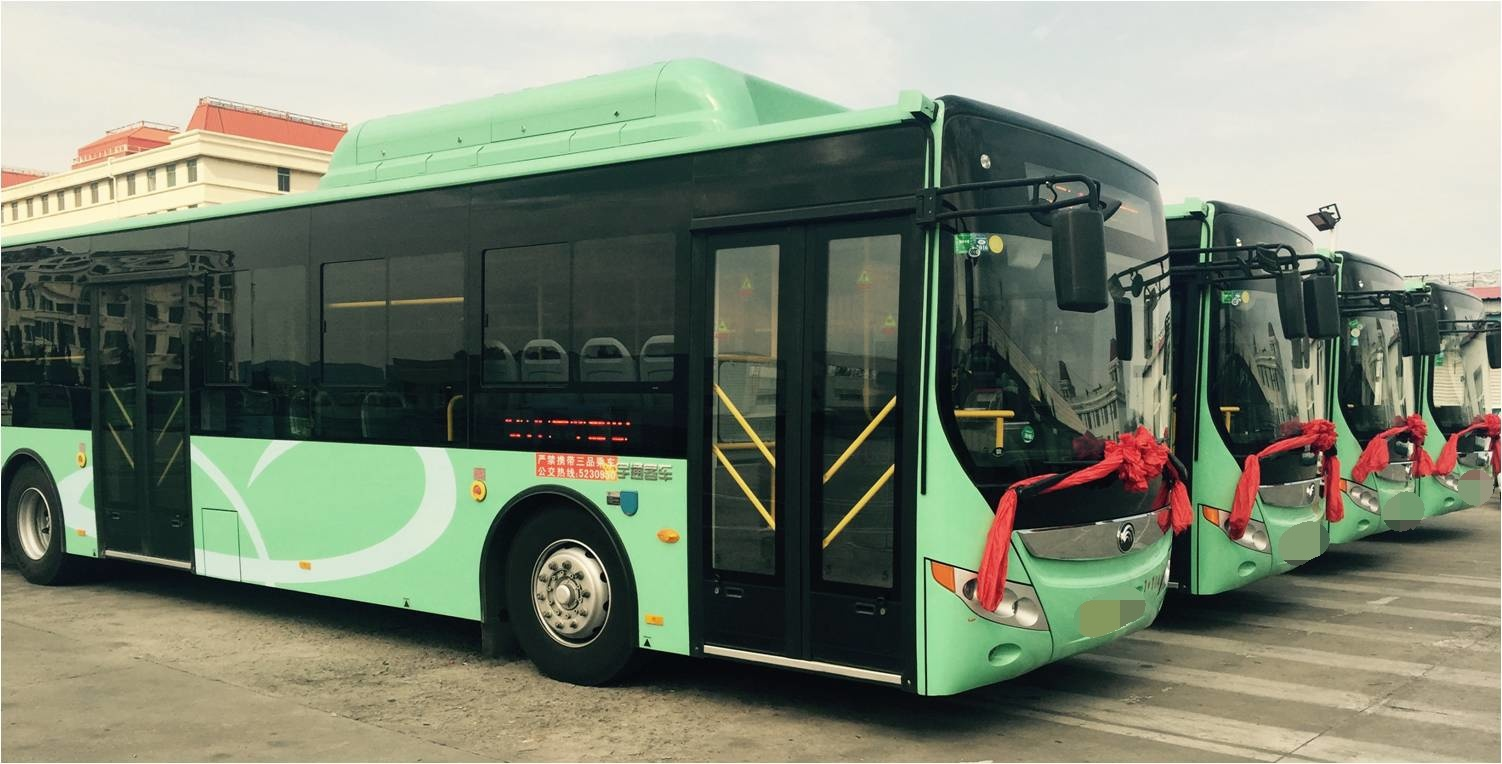bus: (4, 82, 1197, 725), (1168, 181, 1337, 615), (1331, 242, 1442, 551), (1422, 276, 1502, 513)
